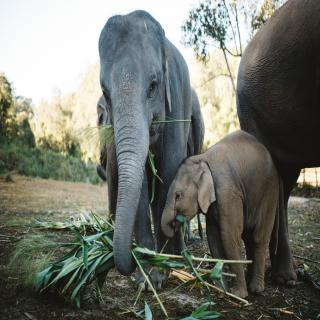Elephant: (90, 7, 202, 297), (160, 126, 287, 304)
